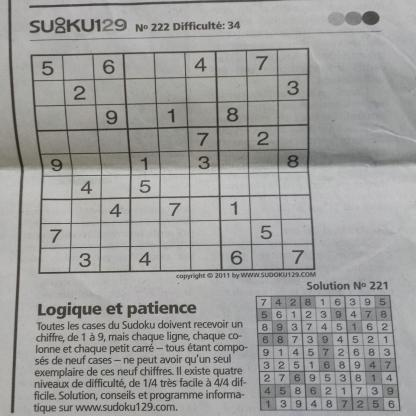sudoku: (28, 46, 320, 276)
